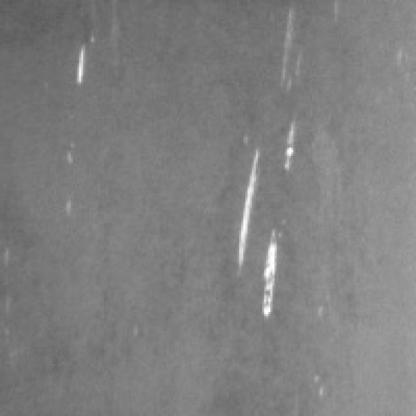scratches: (229, 119, 293, 316), (64, 29, 96, 87)
